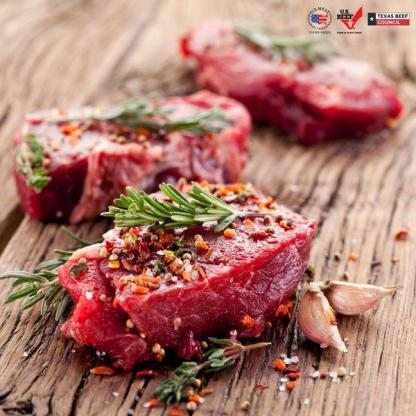beef: (65, 190, 325, 334), (8, 113, 260, 205)
